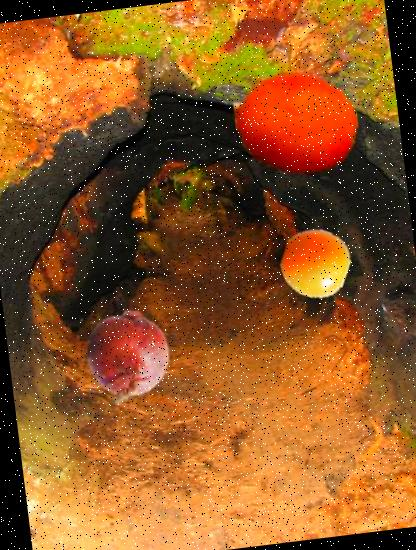Apricot: (228, 55, 365, 192)
Cherry: (276, 225, 352, 301)
Onion: (74, 304, 182, 412)
